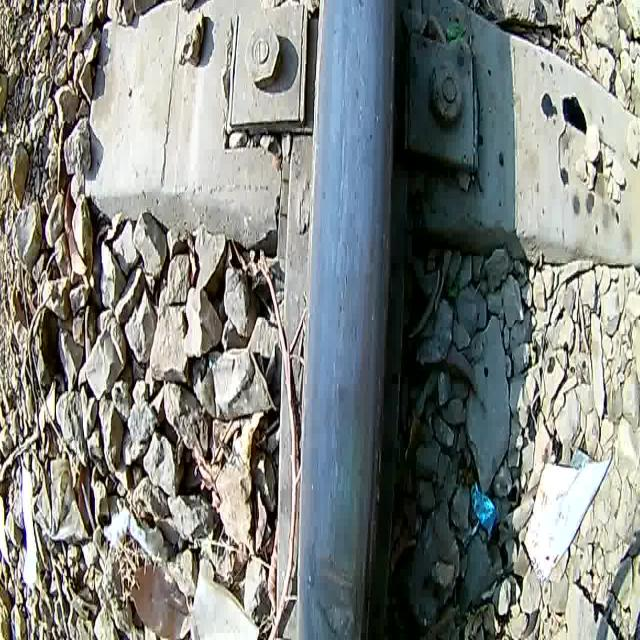Squats: (281, 0, 410, 640)
